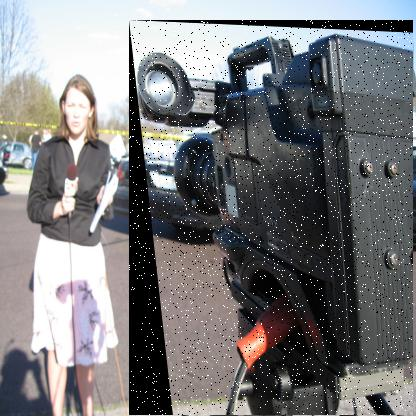Camera: (130, 21, 415, 416)
